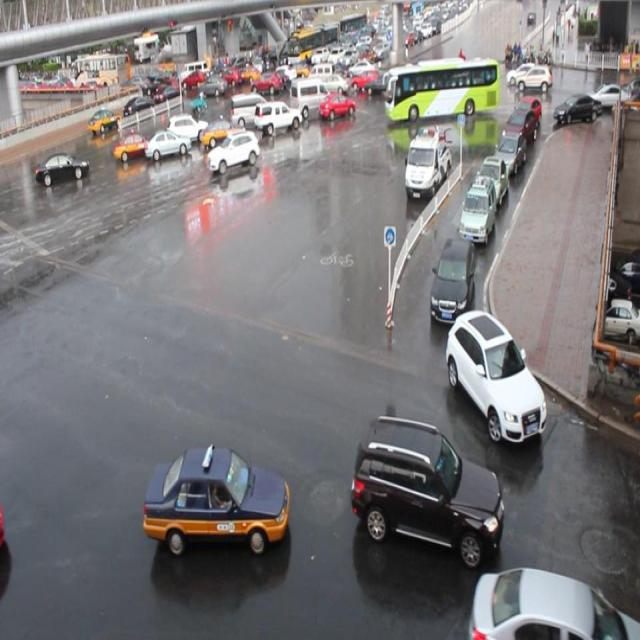bus: (403, 125, 450, 199)
car: (350, 414, 502, 565), (144, 446, 289, 552), (445, 308, 545, 442), (466, 565, 640, 639), (428, 236, 474, 323), (460, 173, 498, 242), (207, 129, 260, 171), (473, 150, 509, 208), (36, 146, 89, 184), (252, 96, 302, 133), (199, 112, 247, 150), (144, 126, 192, 160), (166, 108, 209, 144), (495, 124, 527, 170), (507, 106, 539, 150), (113, 129, 153, 158), (318, 90, 355, 117), (517, 94, 543, 132)
truck: (288, 75, 332, 115), (228, 90, 271, 128)
van: (384, 62, 498, 115)
